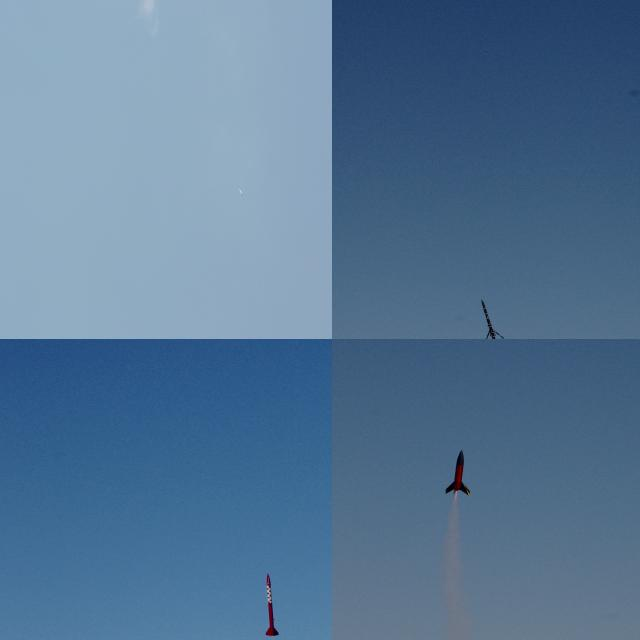Rocket: (444, 449, 471, 497), (480, 298, 505, 339), (264, 573, 280, 637), (239, 188, 244, 196)
